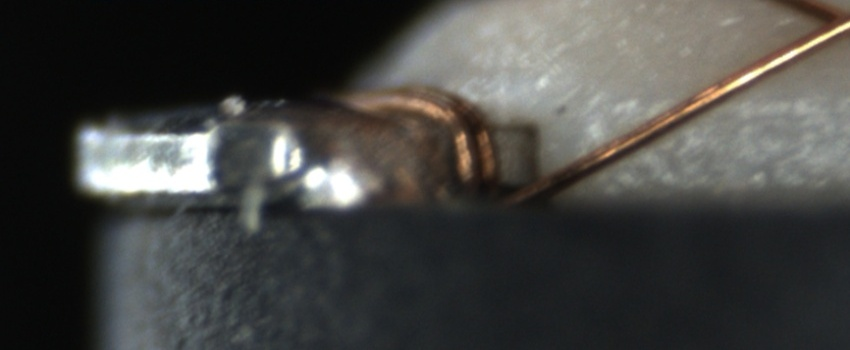CL: (792, 0, 850, 47)
DL: (666, 75, 850, 139)
TE: (338, 76, 525, 188)
